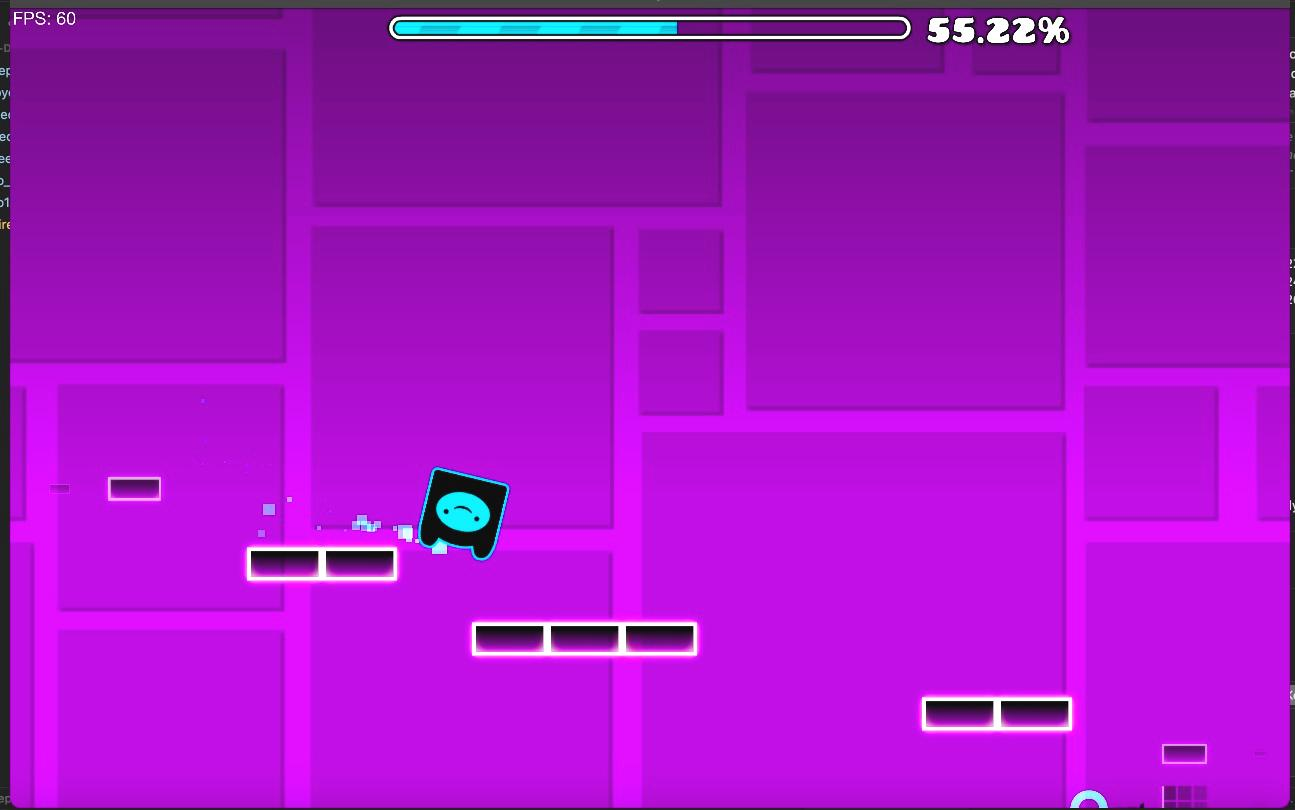platform: (471, 621, 699, 657), (246, 546, 396, 581), (921, 697, 1072, 731), (107, 476, 161, 501)
player: (419, 468, 507, 560)
